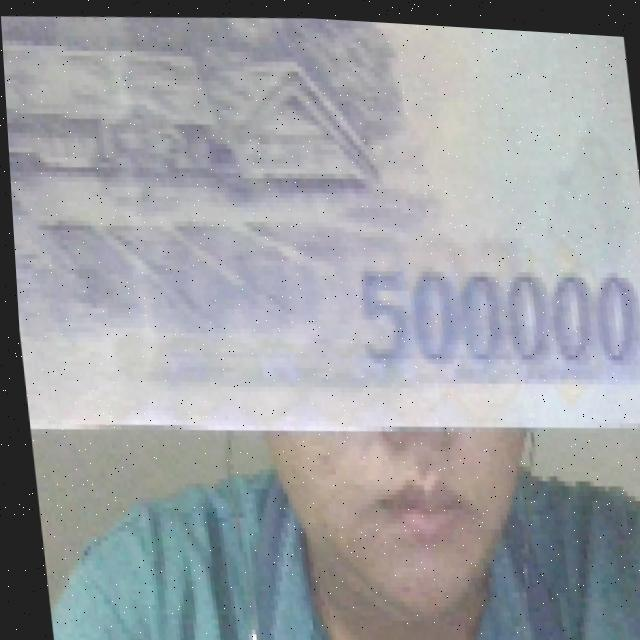500 000 VND: (0, 0, 640, 463)
